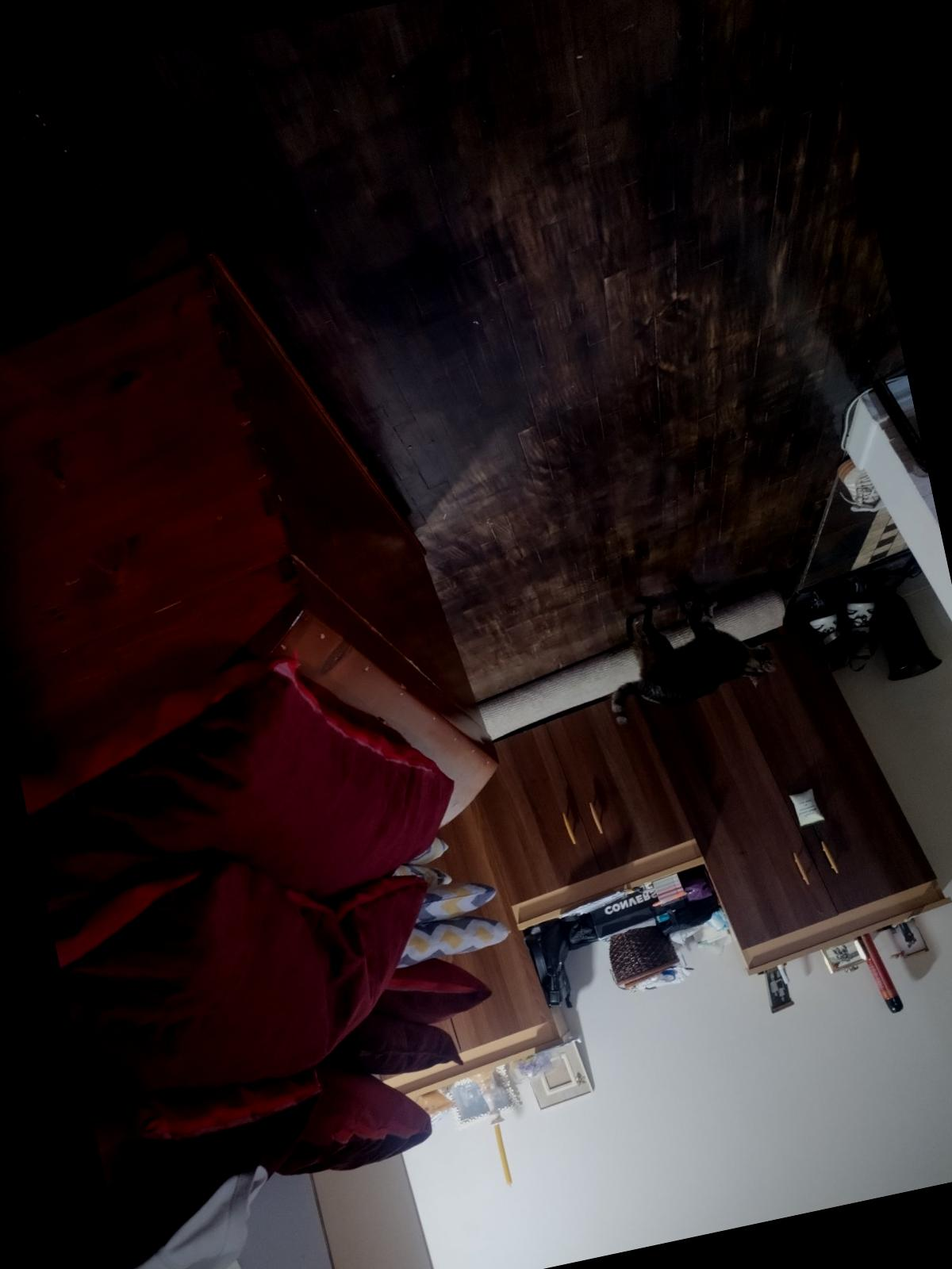macka: (588, 573, 787, 732)
